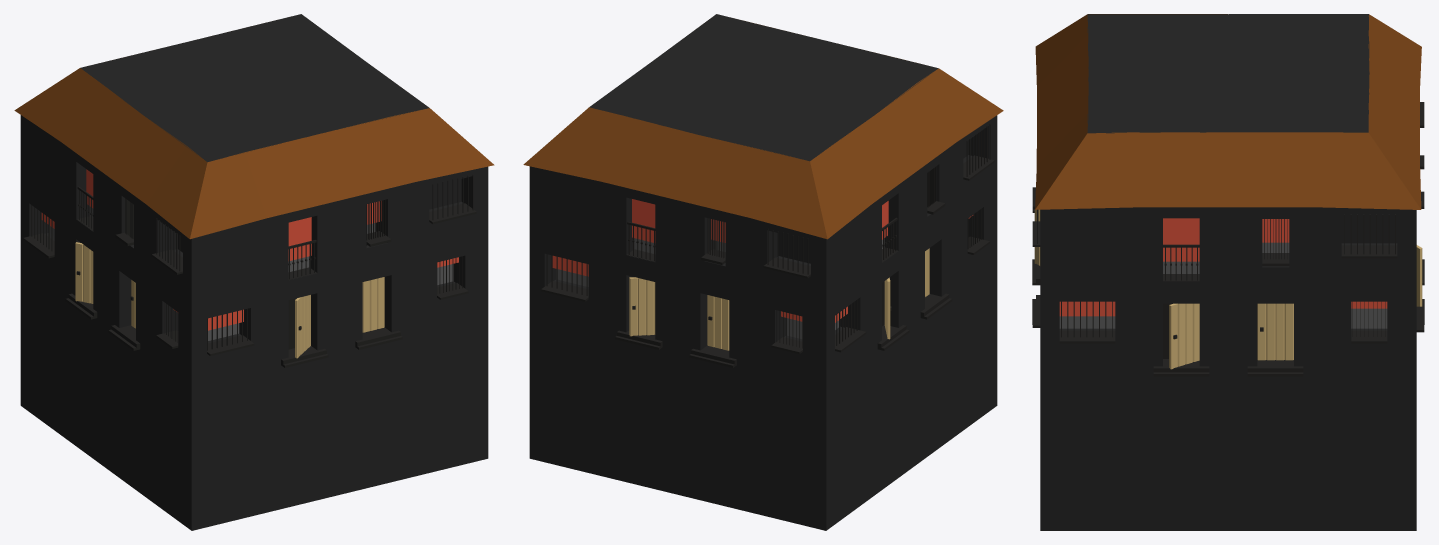
The model's file is casa procedural_relleno_Con sotano_6.fbx.
3 views of the same model, side by side, from view 1: azimuth 30°, elevation 25°; view 2: azimuth 150°, elevation 25°; view 3: azimuth 270°, elevation 25° (orthographic). The views are drawn at different scales.
Parts seen in each view (by area): view 1: Procedural_Building_straight.006; view 2: Procedural_Building_straight.006; view 3: Procedural_Building_straight.006.
Part boxes in pixels (x1,y1,x2,y2): Procedural_Building_straight.006: (14, 14, 494, 530); Procedural_Building_straight.006: (523, 14, 1003, 530); Procedural_Building_straight.006: (1032, 14, 1424, 530).
Size of the model in its own units: 418 by 444 by 418.
